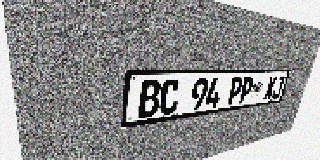4: (204, 78, 223, 109)
9: (189, 78, 209, 111)
B: (137, 80, 162, 119)
C: (158, 79, 181, 116)
J: (271, 76, 285, 99)
P: (226, 77, 244, 106), (238, 77, 254, 104)
X: (263, 76, 277, 100)
